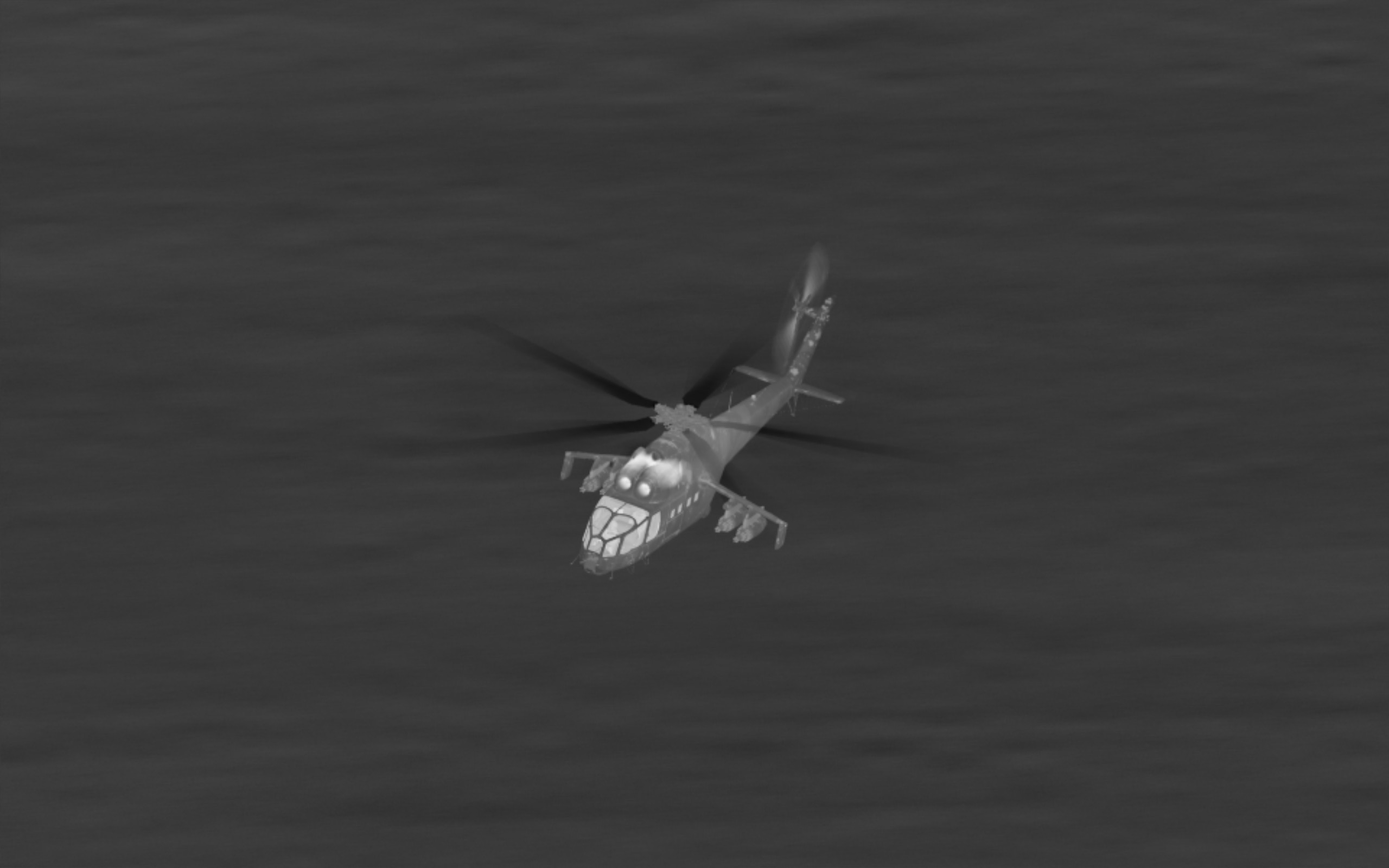mi24: (558, 295, 846, 589)
